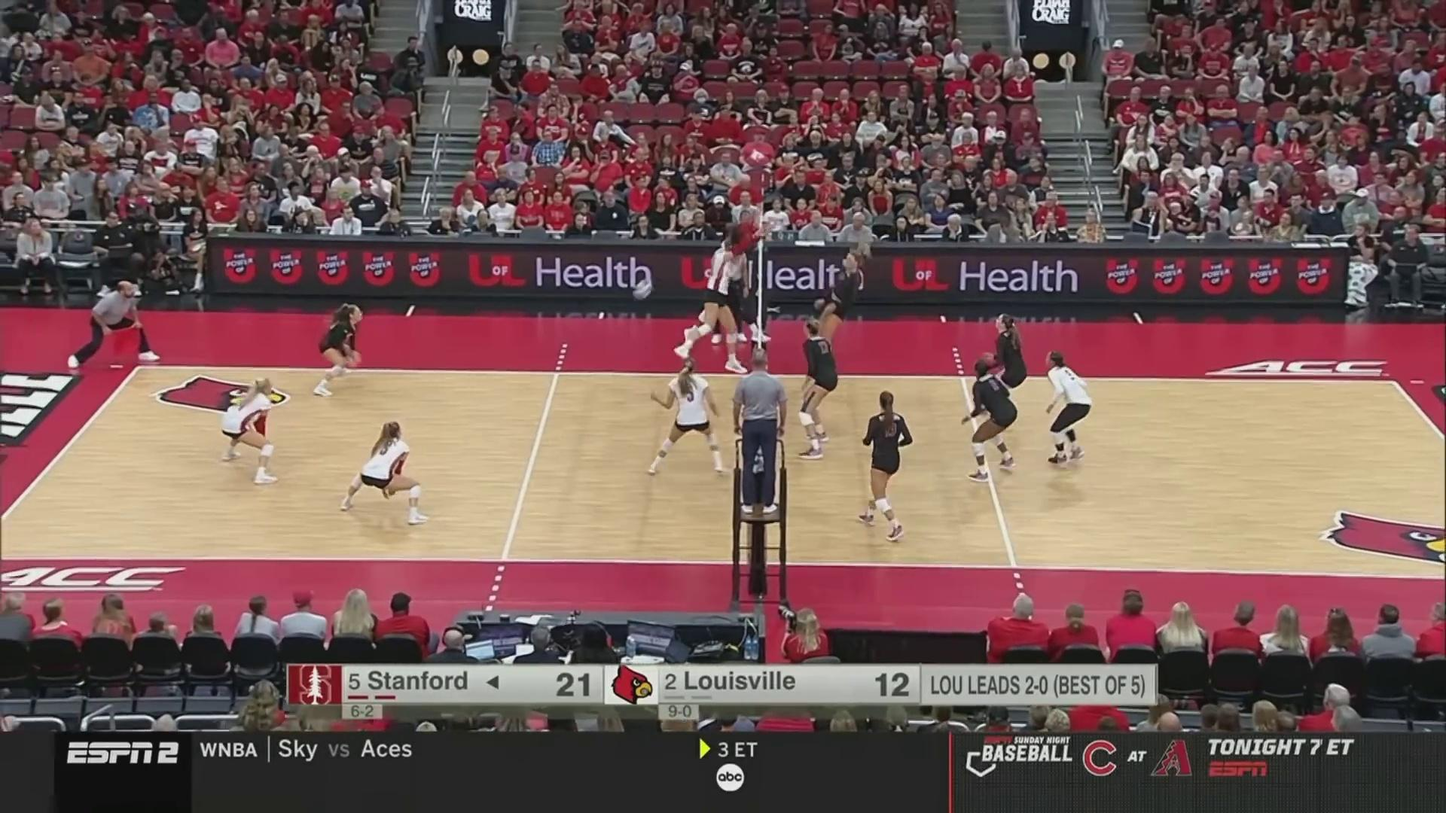player: (678, 237, 751, 372), (339, 419, 431, 522), (647, 360, 725, 477), (860, 393, 913, 542), (702, 241, 772, 346), (964, 359, 1021, 486), (219, 377, 286, 484), (1043, 353, 1096, 472), (813, 246, 859, 379), (978, 313, 1030, 429), (800, 321, 840, 462), (311, 302, 368, 397)
refree: (734, 351, 788, 517), (69, 281, 158, 366)
